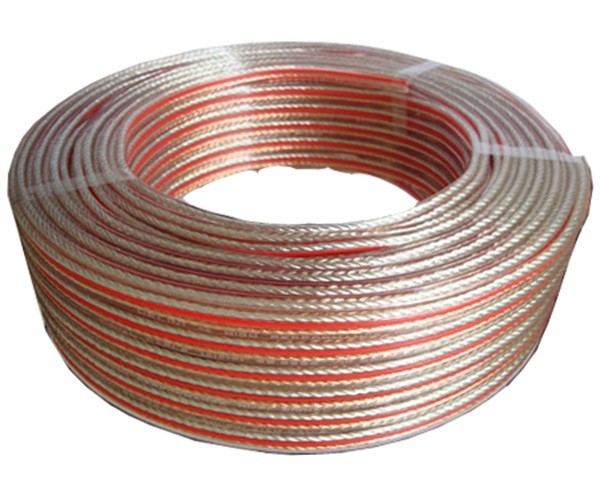Nonrec_Tangler: (1, 30, 585, 455)
